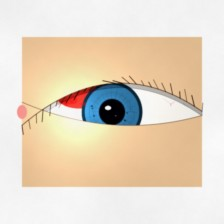hemorrhage_spot: (48, 70, 112, 121)
